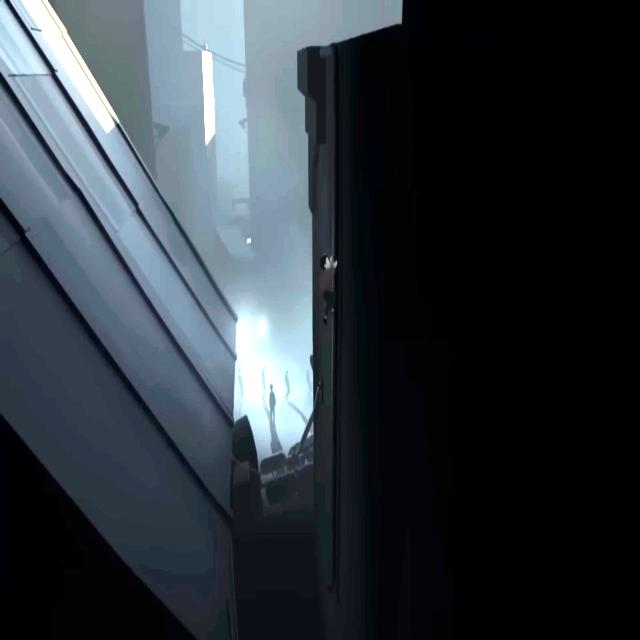boy: (318, 252, 338, 327)
